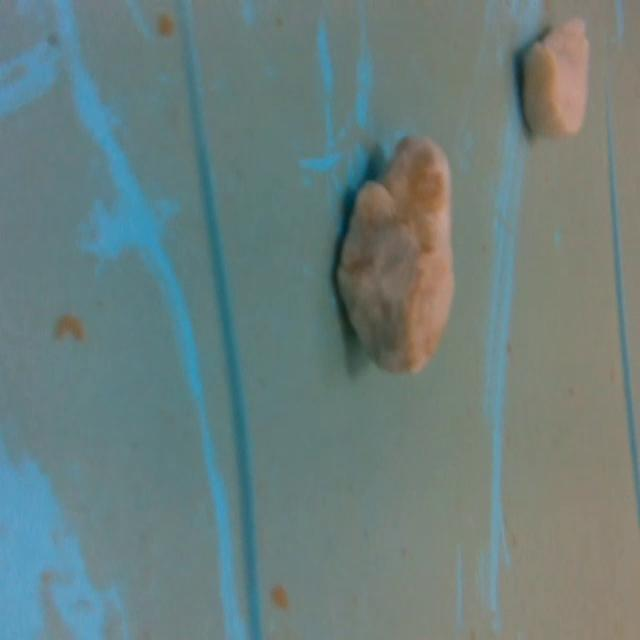rock: (330, 125, 464, 382), (518, 14, 596, 146)
